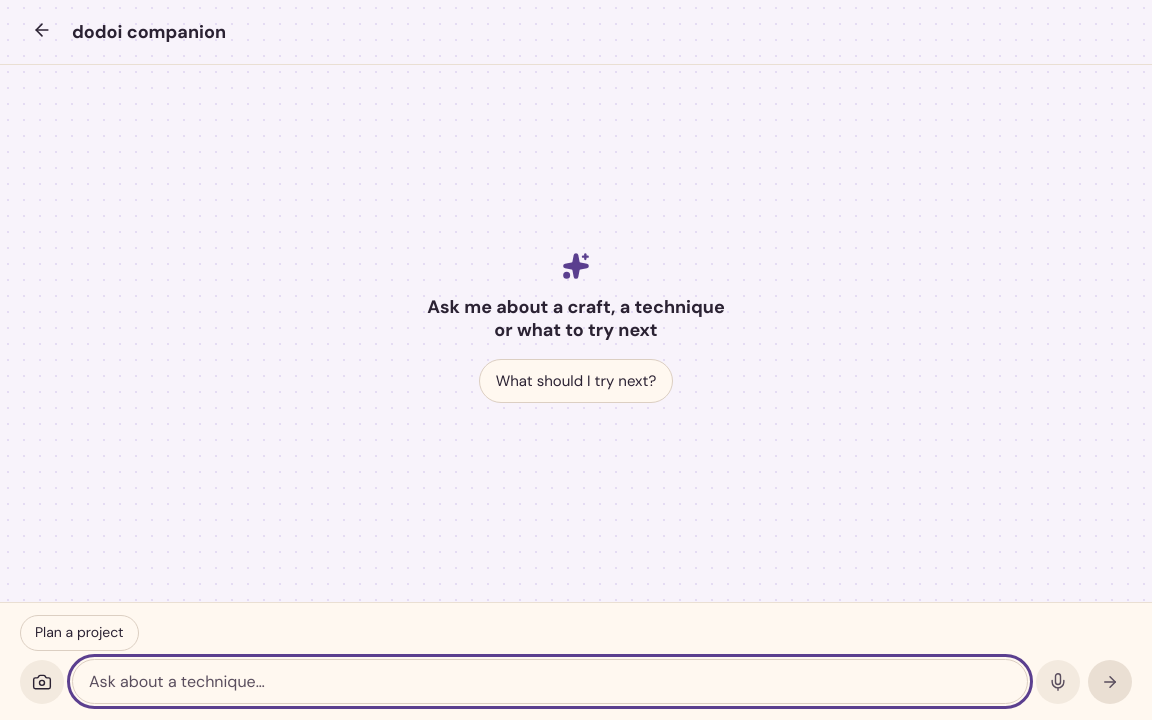
Scenario: ChatPanel › voice typing (P2-10) › sends the dictated text as an ordinary message and stops listening
Click the button named "Start voice typing": {"x": 1058, "y": 682} [1036, 660, 1080, 704]
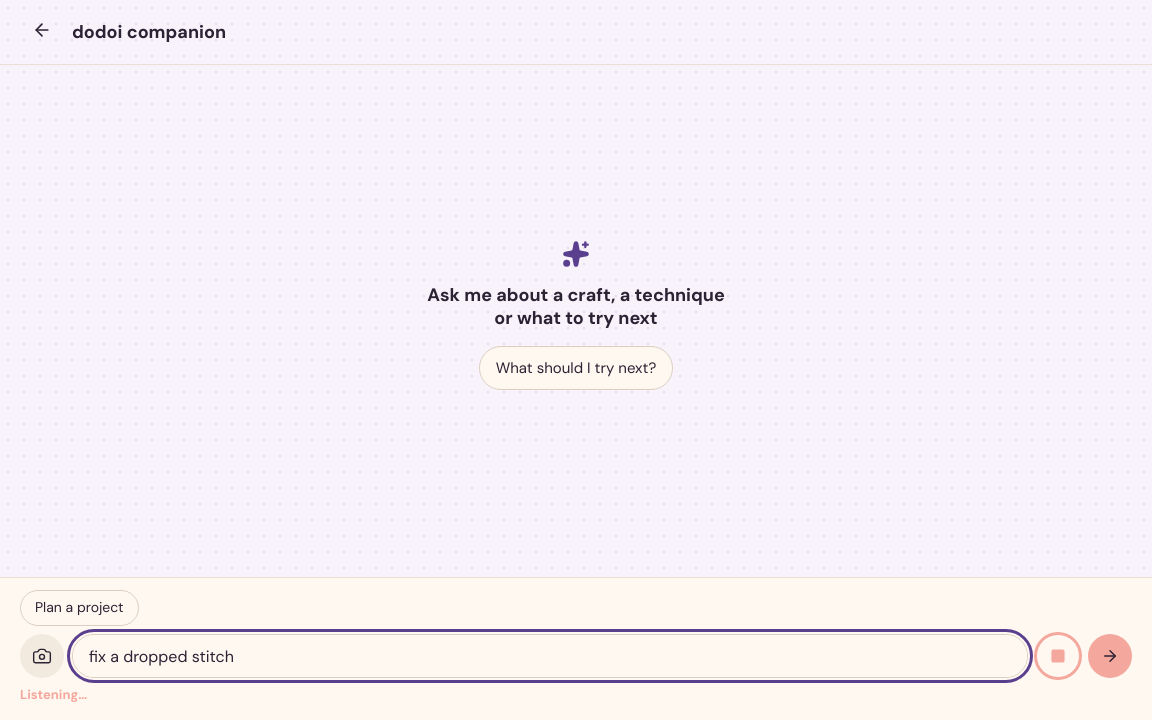
Click the button named "Send": {"x": 1110, "y": 656} [1088, 634, 1132, 678]
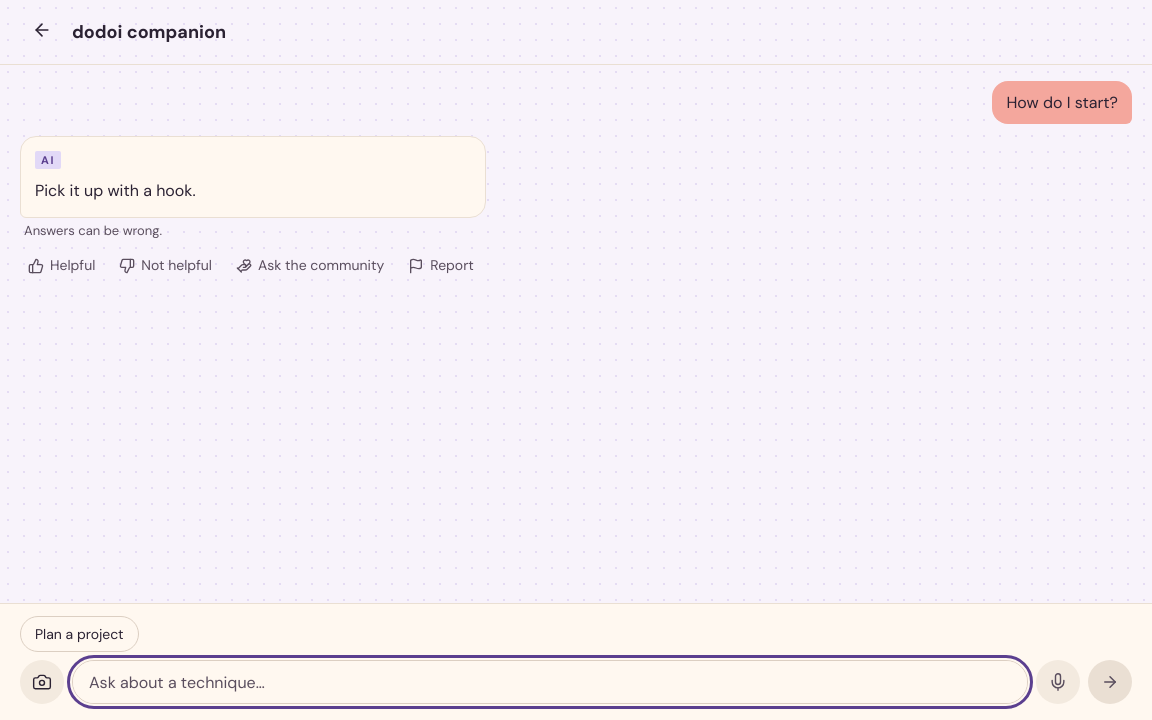
Expected: the text "Pick it up with a hook." is shown, [35, 180, 196, 202]
